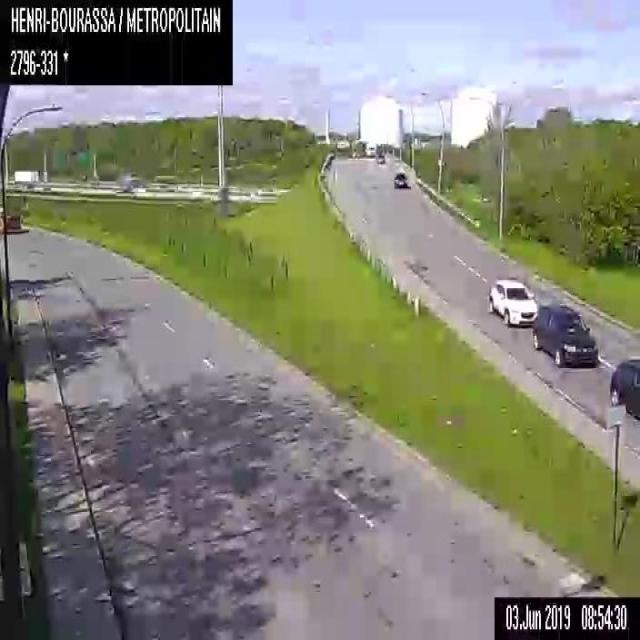vehicle: (531, 303, 598, 364), (488, 278, 537, 327), (609, 356, 639, 423), (0, 210, 21, 233), (364, 142, 377, 156), (393, 172, 406, 186), (376, 152, 384, 162)
